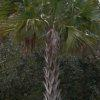Palm tree: (23, 2, 78, 97)
